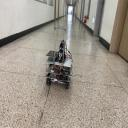cart: (46, 53, 72, 90)
